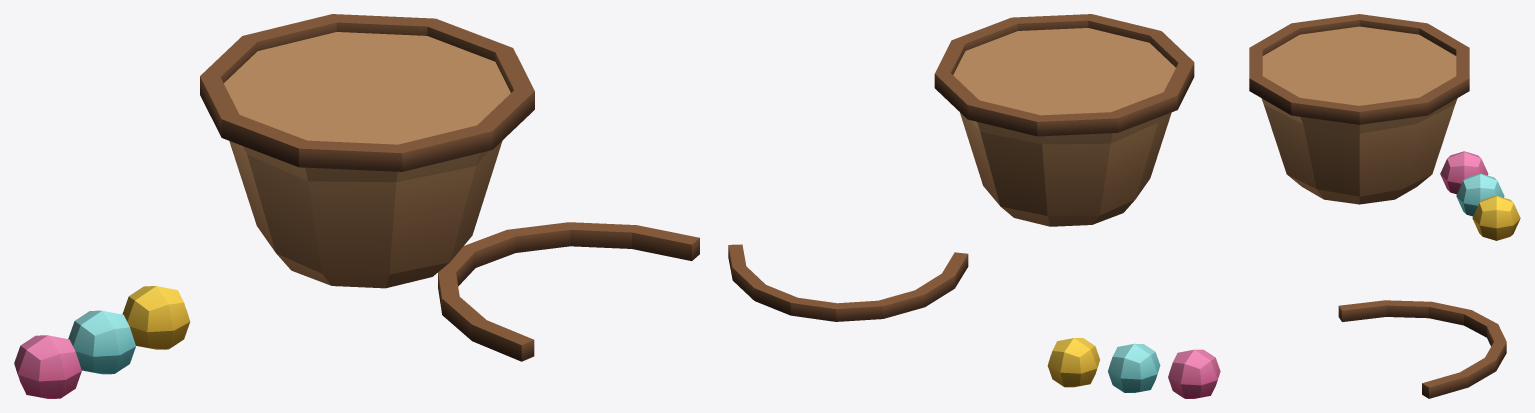
File: PlayGround_Kit_Candy_Basket_Broken.fbx
3 renders of one model, left to right at view 1: azimuth 30°, elevation 25°; view 2: azimuth 150°, elevation 25°; view 3: azimuth 270°, elevation 25°, orthographic. The views are drawn at different scales.
Parts seen in each view (by area): view 1: PlayGround_Kit_Candy_Basket_Broken_1, PlayGround_Kit_Candy_Basket_Broken_3, PlayGround_Kit_Candy_Basket_Broken_2; view 2: PlayGround_Kit_Candy_Basket_Broken_1, PlayGround_Kit_Candy_Basket_Broken_3, PlayGround_Kit_Candy_Basket_Broken_2; view 3: PlayGround_Kit_Candy_Basket_Broken_1, PlayGround_Kit_Candy_Basket_Broken_2, PlayGround_Kit_Candy_Basket_Broken_3.
Part boxes in pixels (<box>): PlayGround_Kit_Candy_Basket_Broken_1: <box>200,14,534,288</box>; PlayGround_Kit_Candy_Basket_Broken_3: <box>14,286,190,398</box>; PlayGround_Kit_Candy_Basket_Broken_2: <box>438,222,699,361</box>; PlayGround_Kit_Candy_Basket_Broken_1: <box>934,14,1194,226</box>; PlayGround_Kit_Candy_Basket_Broken_3: <box>1047,338,1220,398</box>; PlayGround_Kit_Candy_Basket_Broken_2: <box>728,244,968,321</box>; PlayGround_Kit_Candy_Basket_Broken_1: <box>1249,14,1469,204</box>; PlayGround_Kit_Candy_Basket_Broken_2: <box>1338,300,1506,398</box>; PlayGround_Kit_Candy_Basket_Broken_3: <box>1440,151,1520,240</box>.
Bounding box in the file's own units: 1.3 × 0.5877 × 0.6736.
